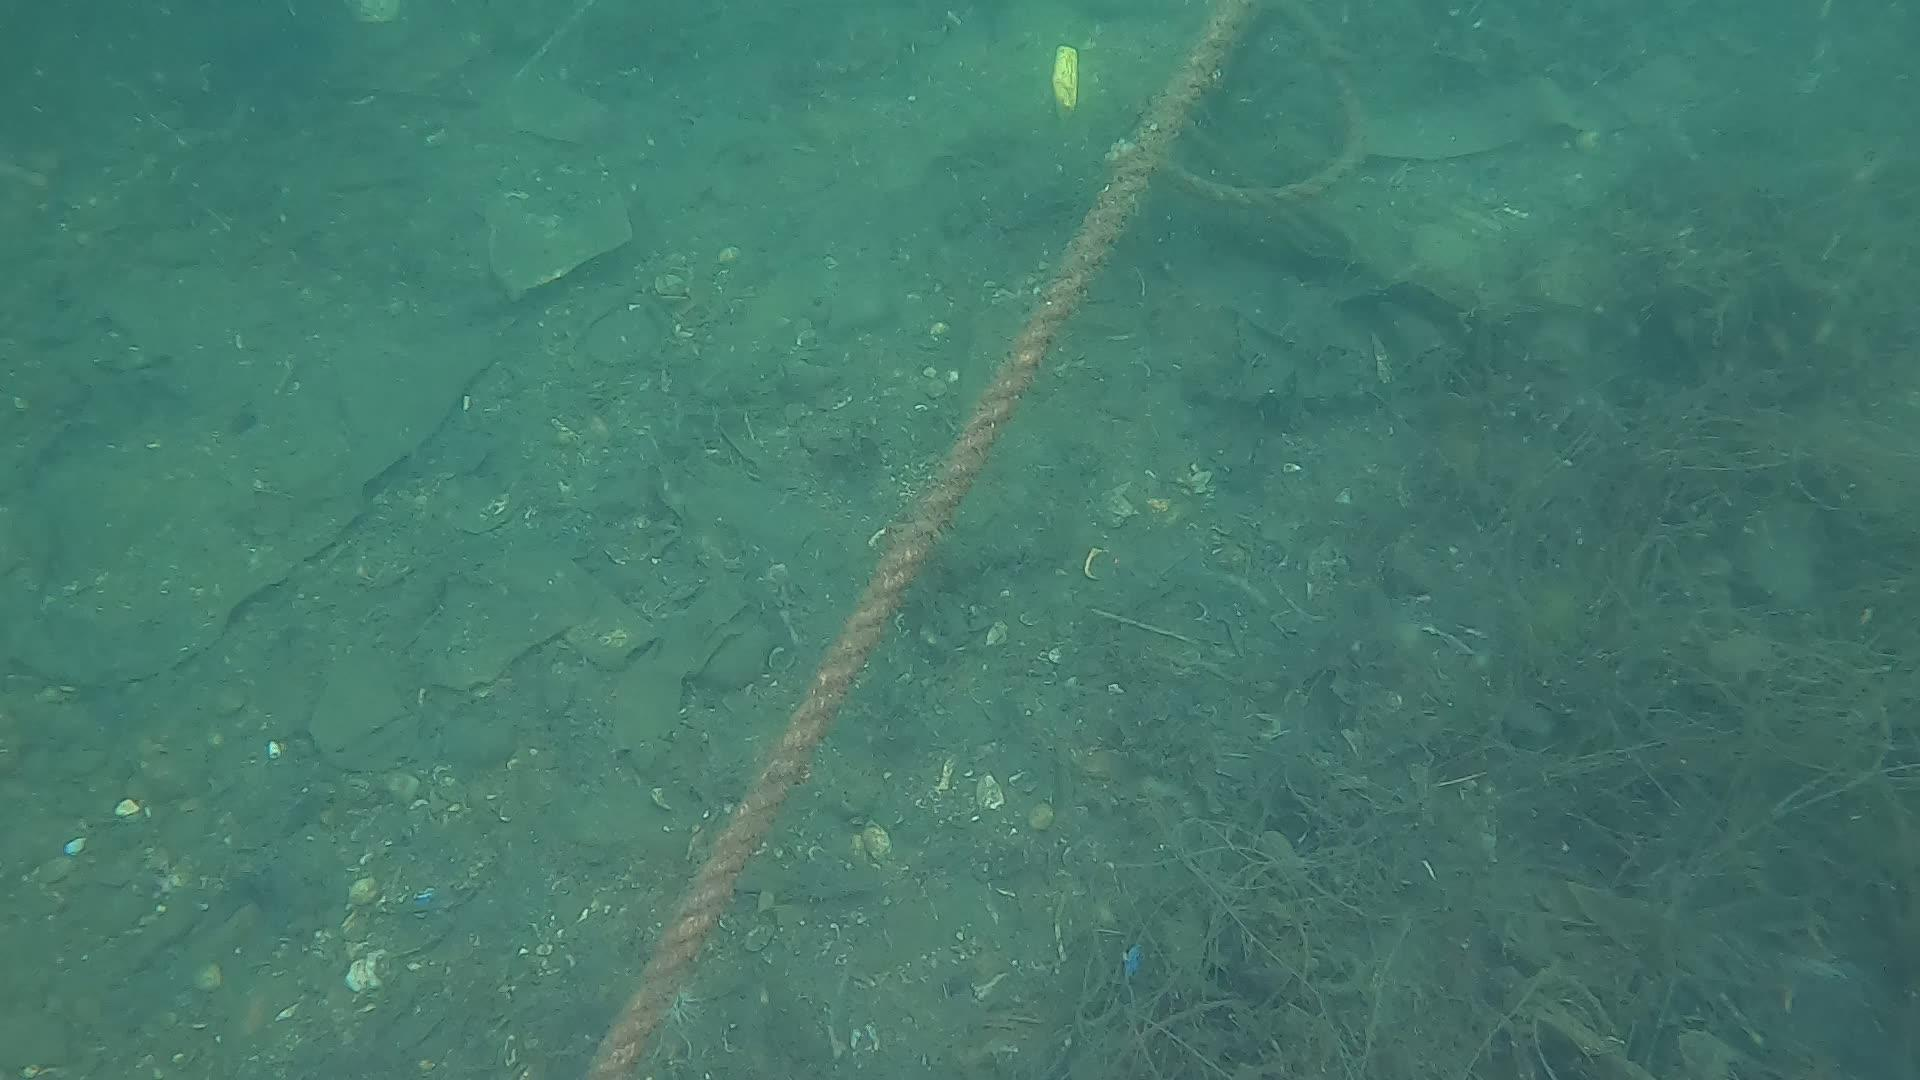rope: (580, 0, 1279, 1080)
